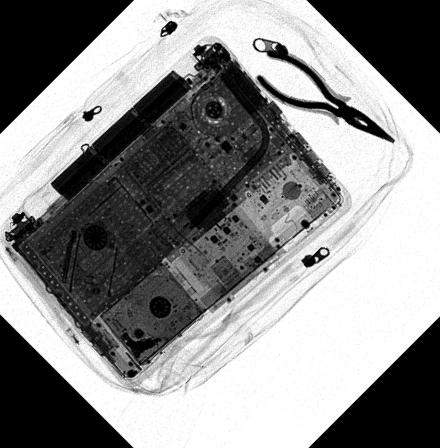Pliers: (255, 45, 396, 144)
